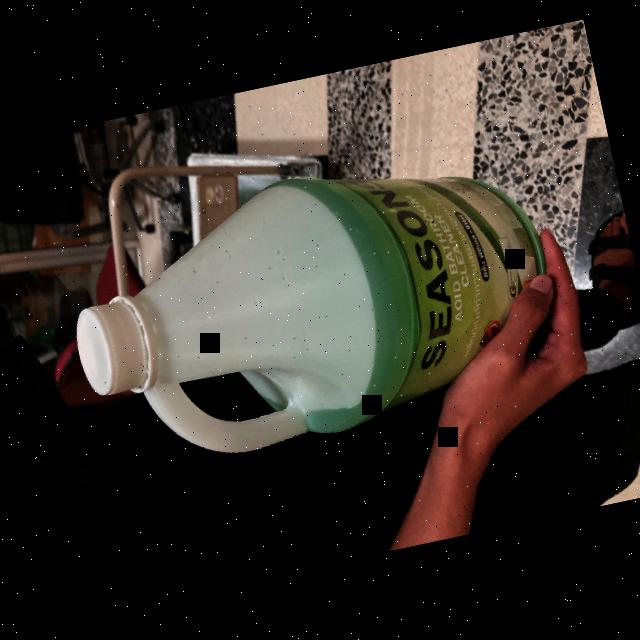chemical_plastic_gallon: (49, 130, 576, 487)
